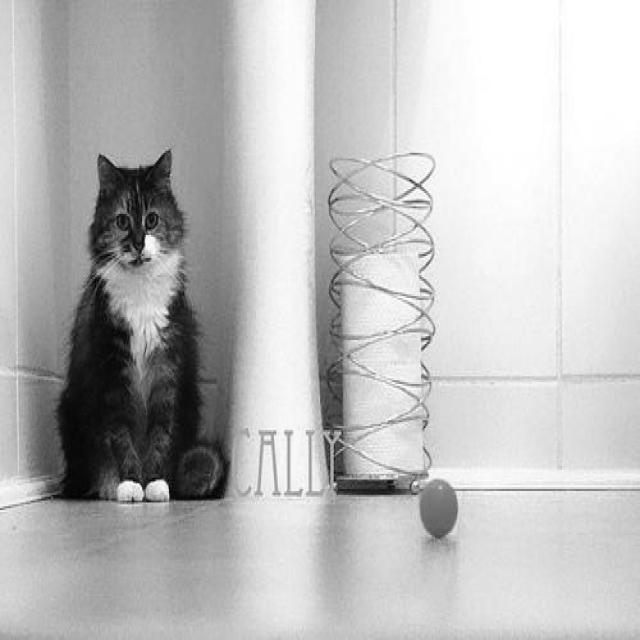ping-pong-ball: (418, 478, 460, 540)
